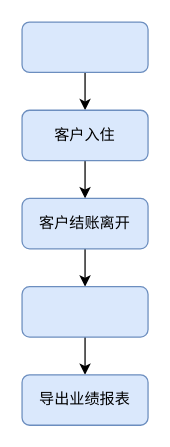
Image size: 170x447. Some labels were removed from this diagram. The centre of each missing label's shape, as x and y in pixels:
"客户预订" belongs at point (84, 46).
"统计酒店业绩" belongs at point (84, 311).
